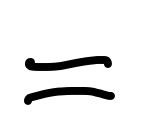eqv: (25, 56, 115, 105)
